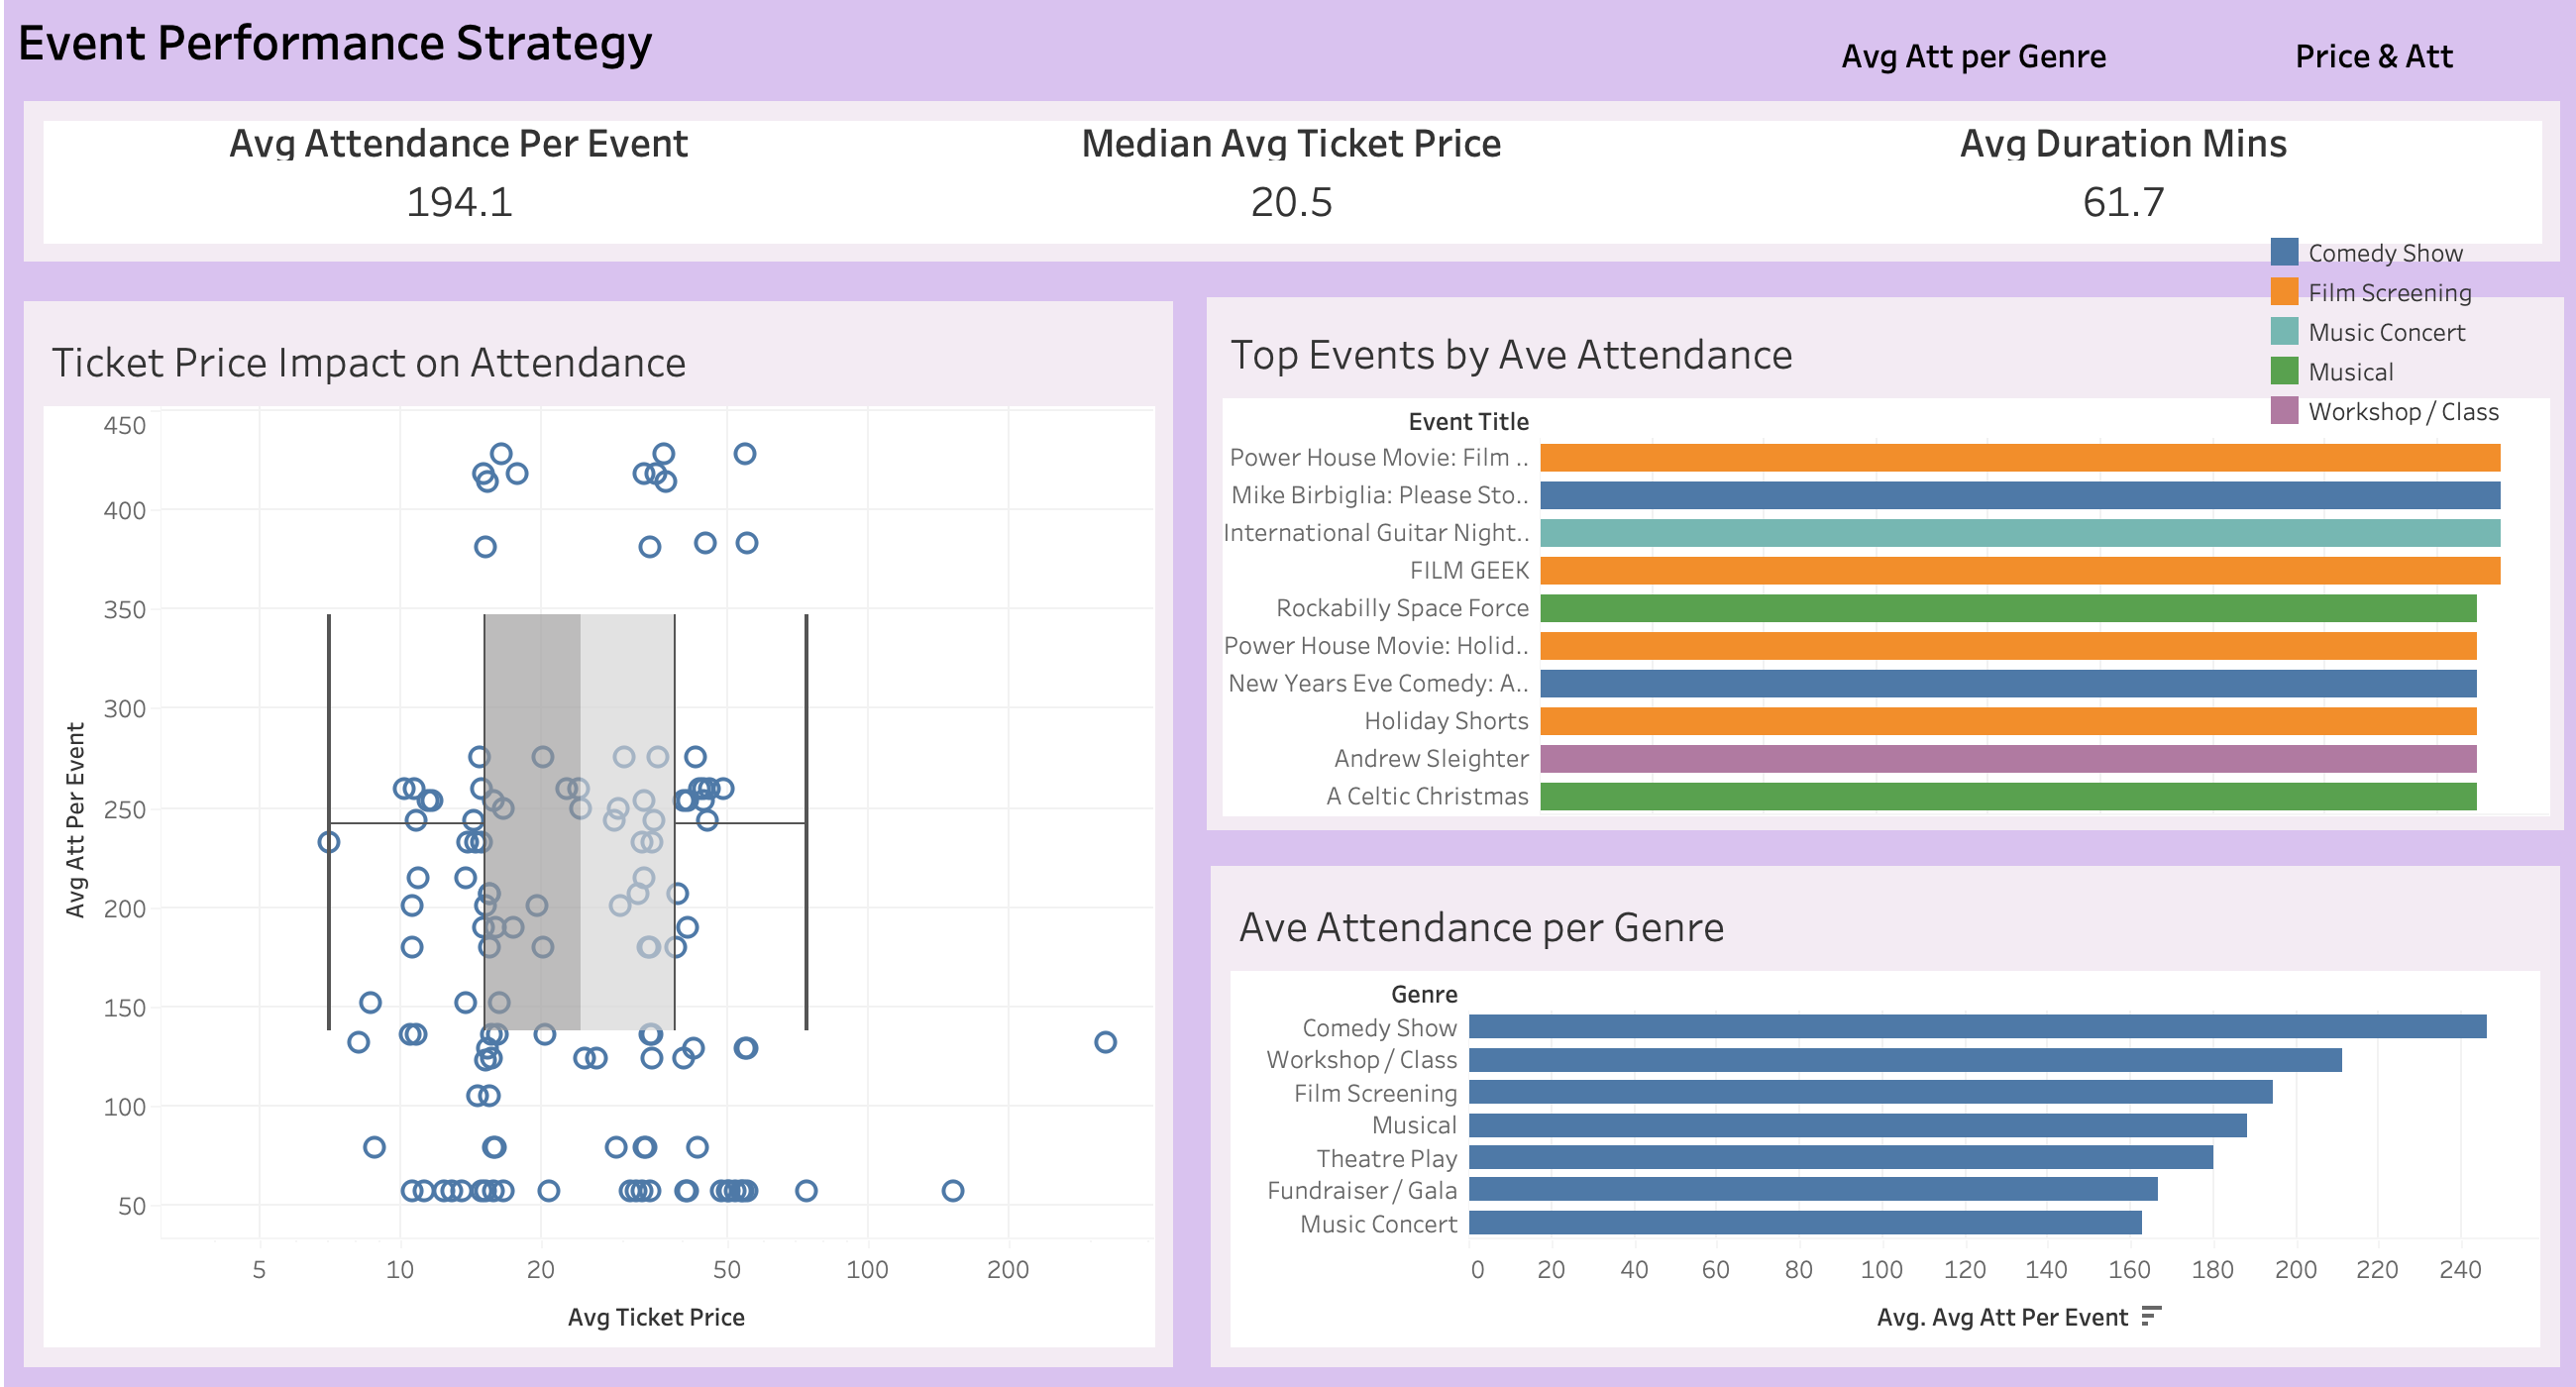

The page's visual inventory and layout, read from the dashboard file:
{"tool":"tableau","page":{"name":"2_events_performance_analysis","canvas":[1300,700],"ordinal":1},"visuals":[{"type":"text","box":[2,0,1300,41]},{"type":"dashboard-object","box":[890,14,213,28]},{"type":"dashboard-object","box":[1110,14,177,28]},{"type":"worksheet","title":"KPIs Events","mark":"Automatic","box":[2,41,1300,101]},{"type":"legend","title":"Top Events by Ave Attendance","param":"[federated.0nv5vh108ckhg81bx69ge0txhgw3].[none:genre:nk]","box":[1143,117,136,105]},{"type":"text","box":[873,132,416,84]},{"type":"worksheet","title":"Ticket Price Impact on Attendance","mark":"Automatic","rows":["avg_att_per_event"],"cols":["avg_ticket_price"],"box":[2,142,599.5,558]},{"type":"worksheet","title":"Top Events by Ave Attendance","mark":"Automatic","rows":["event_title"],"cols":["avg_att_per_event"],"box":[601.5,142,700.5,284.8]},{"type":"text","box":[411,222,173,223]},{"type":"worksheet","title":"Ave Attendance per Genre","mark":"Automatic","rows":["genre"],"cols":["avg_att_per_event"],"box":[601.5,426.8,700.5,273.2]}]}

Visuals, with their boxes in screenshot pixels (x1, y1, x2, y2), scaled from the page's 1300x700 canvas onto the 2576x1387 screenshot:
text: region(4, 0, 2575, 81)
dashboard-object: region(1764, 28, 2186, 83)
dashboard-object: region(2200, 28, 2550, 83)
"KPIs Events" worksheet: region(4, 81, 2575, 281)
"Top Events by Ave Attendance" legend: region(2265, 232, 2534, 440)
text: region(1730, 262, 2554, 428)
"Ticket Price Impact on Attendance" worksheet: region(4, 281, 1192, 1386)
"Top Events by Ave Attendance" worksheet: region(1192, 281, 2575, 846)
text: region(814, 440, 1157, 882)
"Ave Attendance per Genre" worksheet: region(1192, 846, 2575, 1386)
